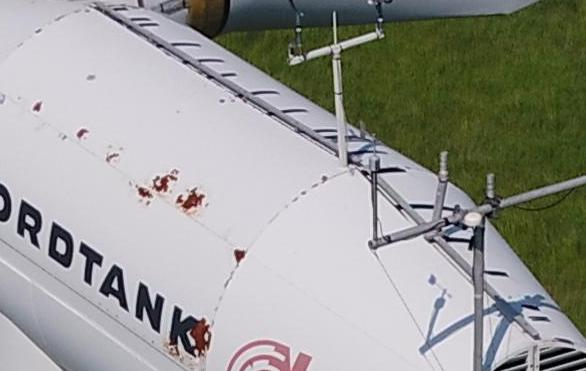damage: (174, 187, 210, 216), (189, 317, 212, 357), (152, 168, 180, 194), (130, 181, 152, 208), (164, 336, 184, 363), (108, 145, 123, 165), (234, 248, 248, 264), (77, 127, 90, 140), (33, 101, 43, 113)
